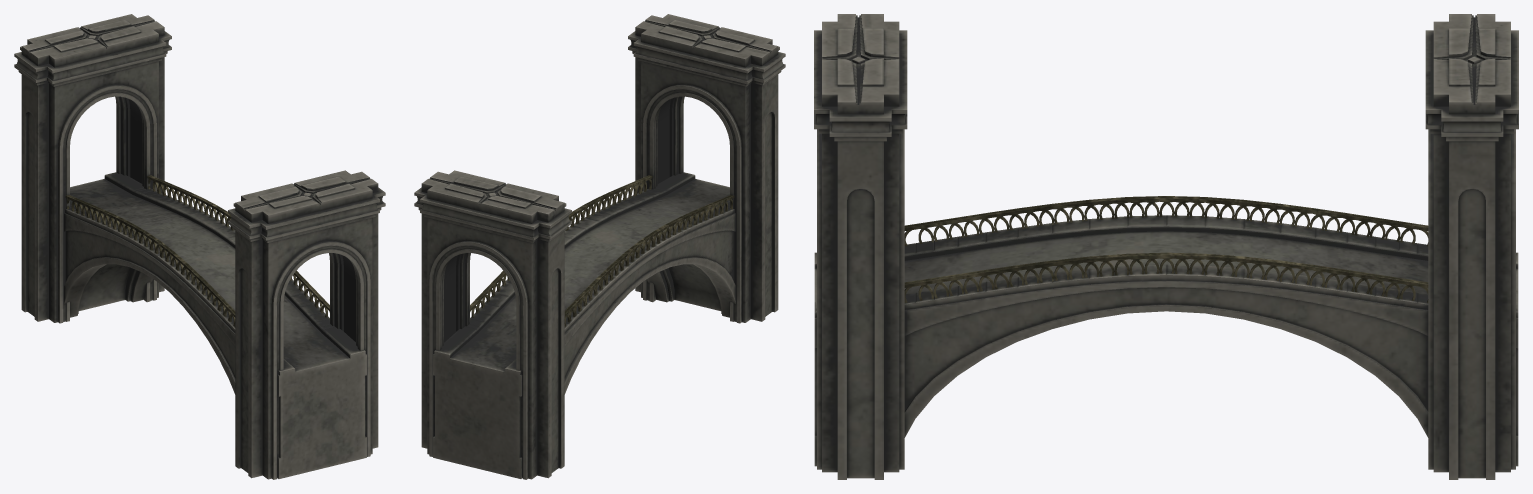
Rendered from SM_Bridge2.fbx.
3 views of the same model, side by side, from view 1: azimuth 30°, elevation 25°; view 2: azimuth 150°, elevation 25°; view 3: azimuth 270°, elevation 25° (orthographic). The views are drawn at different scales.
Visible parts, largest first — view 1: SM_Bridge2; view 2: SM_Bridge2; view 3: SM_Bridge2.
Part boxes in pixels (<box>): SM_Bridge2: <box>14,14,385,479</box>; SM_Bridge2: <box>414,14,785,479</box>; SM_Bridge2: <box>814,14,1518,479</box>.
Size of the model in its own units: 1487 by 4658 by 2767.
